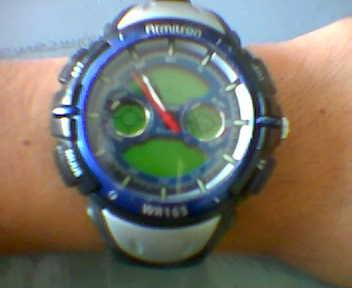watch: (50, 13, 300, 238)
